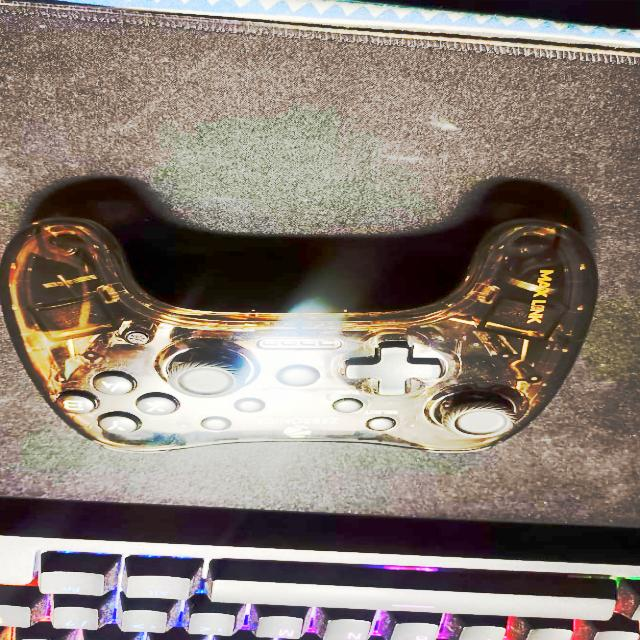gamepad: (1, 184, 602, 460)
